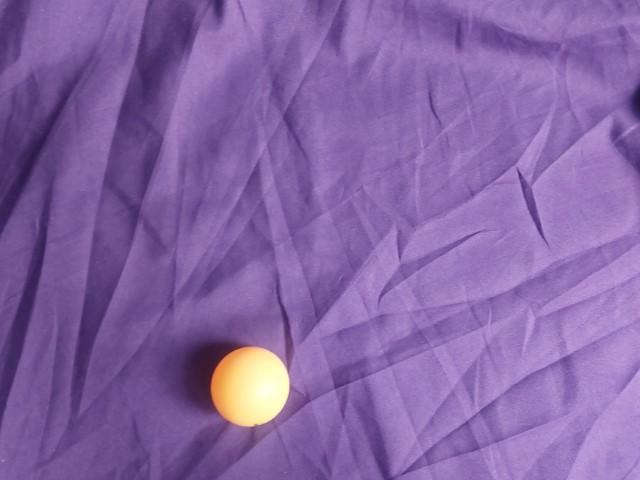oball: (342, 51, 436, 140)
